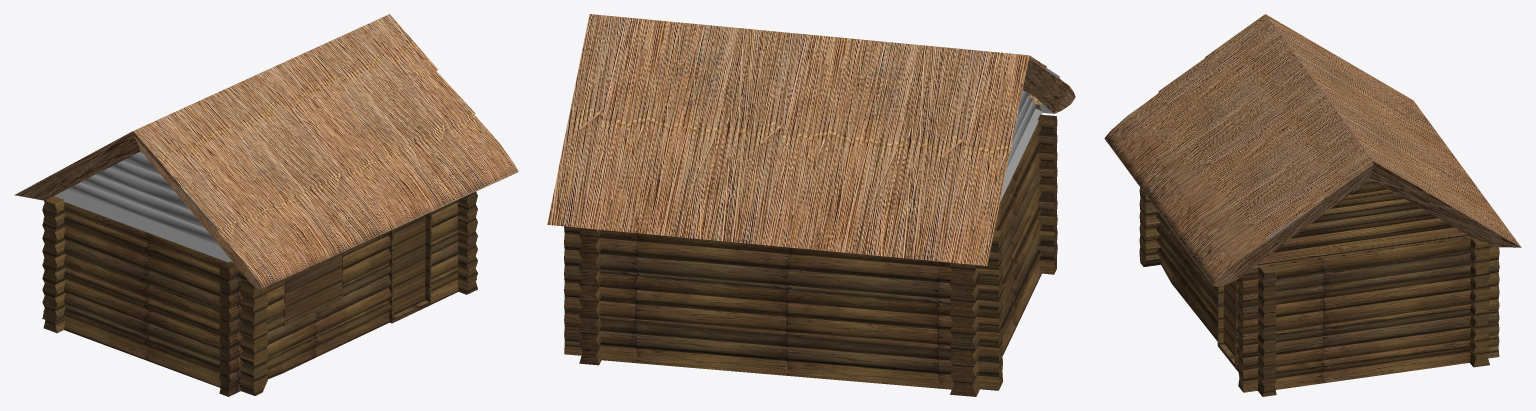
File: Shack1.fbx
3 views of the same model, side by side, from view 1: azimuth 30°, elevation 25°; view 2: azimuth 150°, elevation 25°; view 3: azimuth 270°, elevation 25° (orthographic). The views are drawn at different scales.
Visible parts, largest first — view 1: pCube51; view 2: pCube51; view 3: pCube51.
Boxes of the visible parts, <box> form: pCube51: <box>14,14,518,396</box>; pCube51: <box>547,14,1075,396</box>; pCube51: <box>1104,14,1521,396</box>.
Size of the model in its own units: 723 by 401 by 680.
